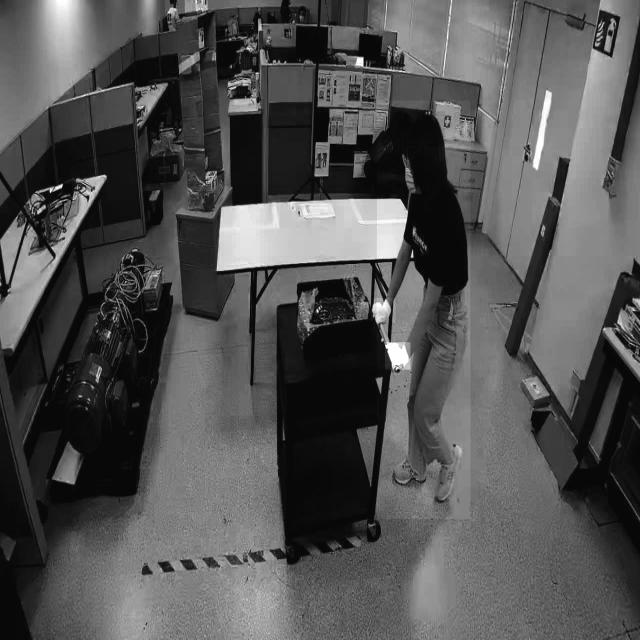face_mask: (404, 147, 426, 210)
hand_glove: (384, 342, 410, 371), (370, 298, 396, 324)
head_nohelmet: (403, 111, 445, 148)
person: (376, 100, 471, 520)
shoes: (433, 439, 464, 509), (392, 454, 428, 487)
